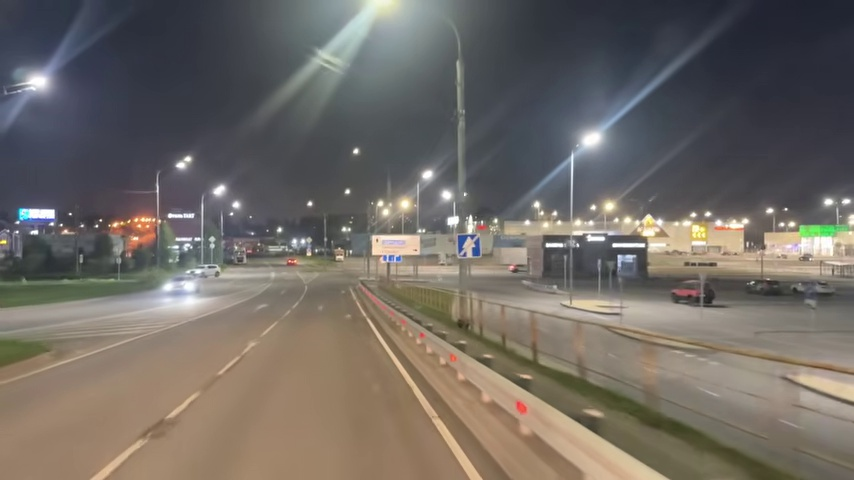acesa: (372, 1, 398, 18), (26, 73, 48, 91), (174, 154, 193, 174), (579, 130, 600, 148), (397, 197, 414, 214), (211, 182, 227, 198), (419, 167, 435, 183), (601, 199, 618, 214), (349, 145, 363, 159), (821, 196, 835, 210), (302, 199, 316, 212), (341, 186, 354, 200), (440, 190, 454, 203), (231, 200, 243, 213)
